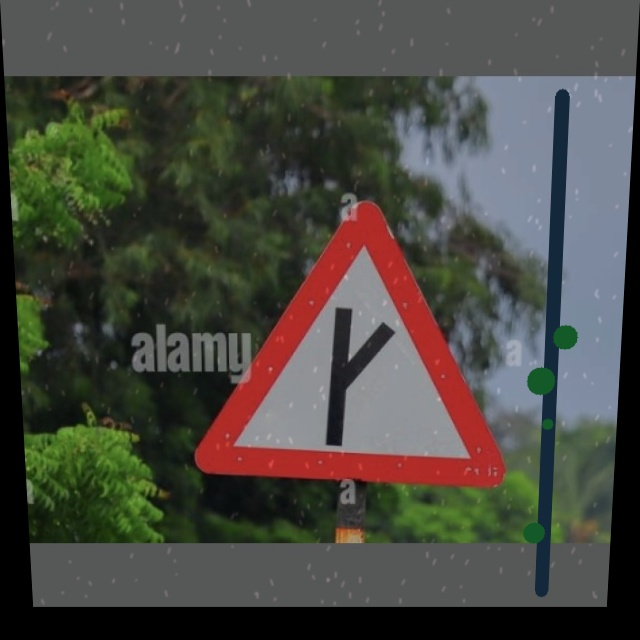Y_Intersection: (192, 208, 510, 483)
